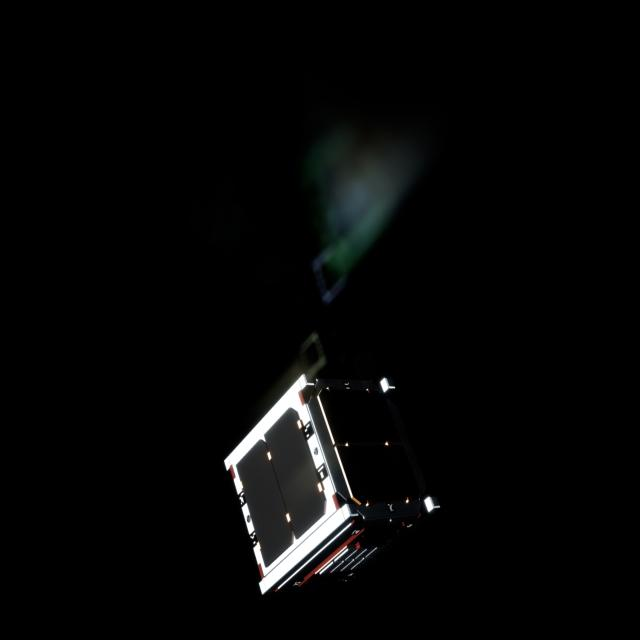satellite: (221, 364, 440, 602)
